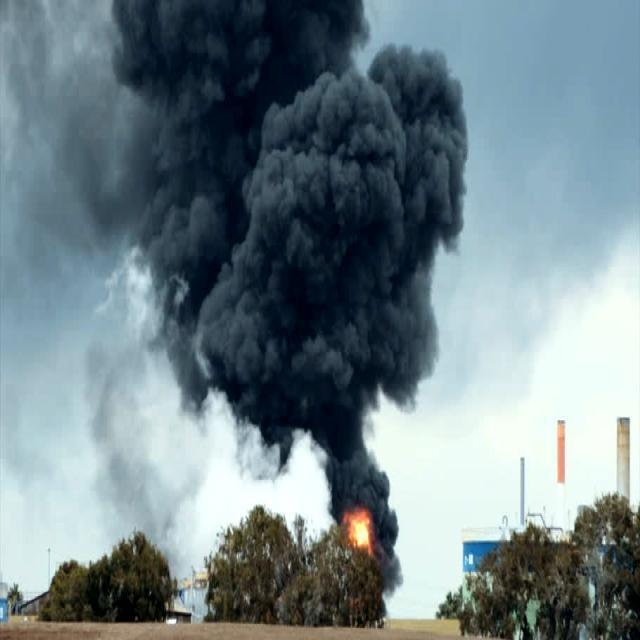Fire: (346, 500, 378, 554)
Smoke: (38, 0, 498, 421), (310, 402, 392, 552)
